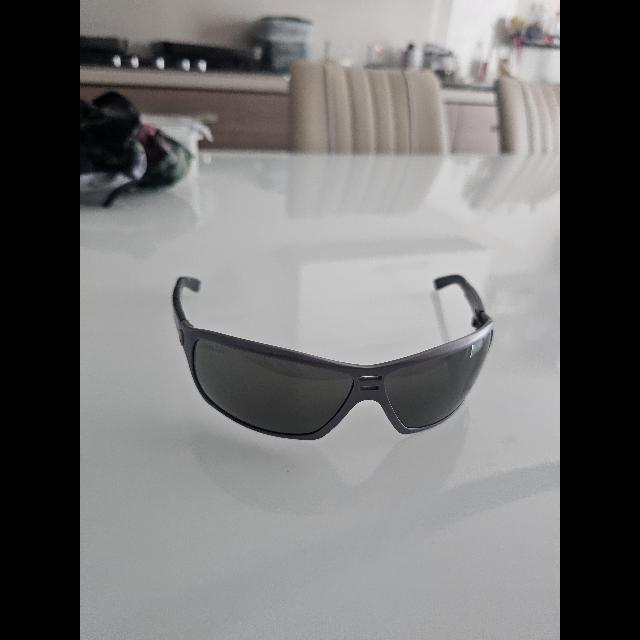Sunglasses: (173, 275, 493, 439)
